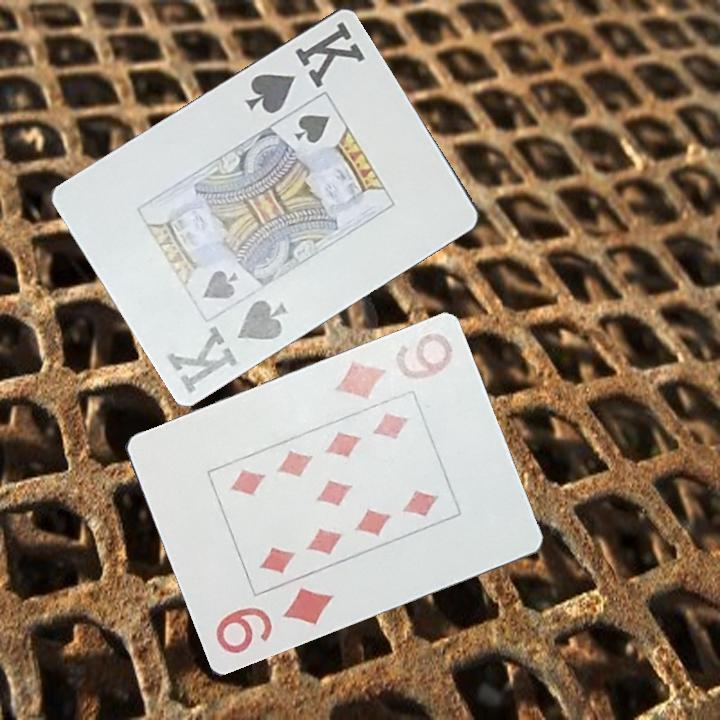9d: (330, 324, 456, 404), (211, 585, 338, 657)
Ks: (162, 295, 290, 396), (241, 17, 369, 117)
